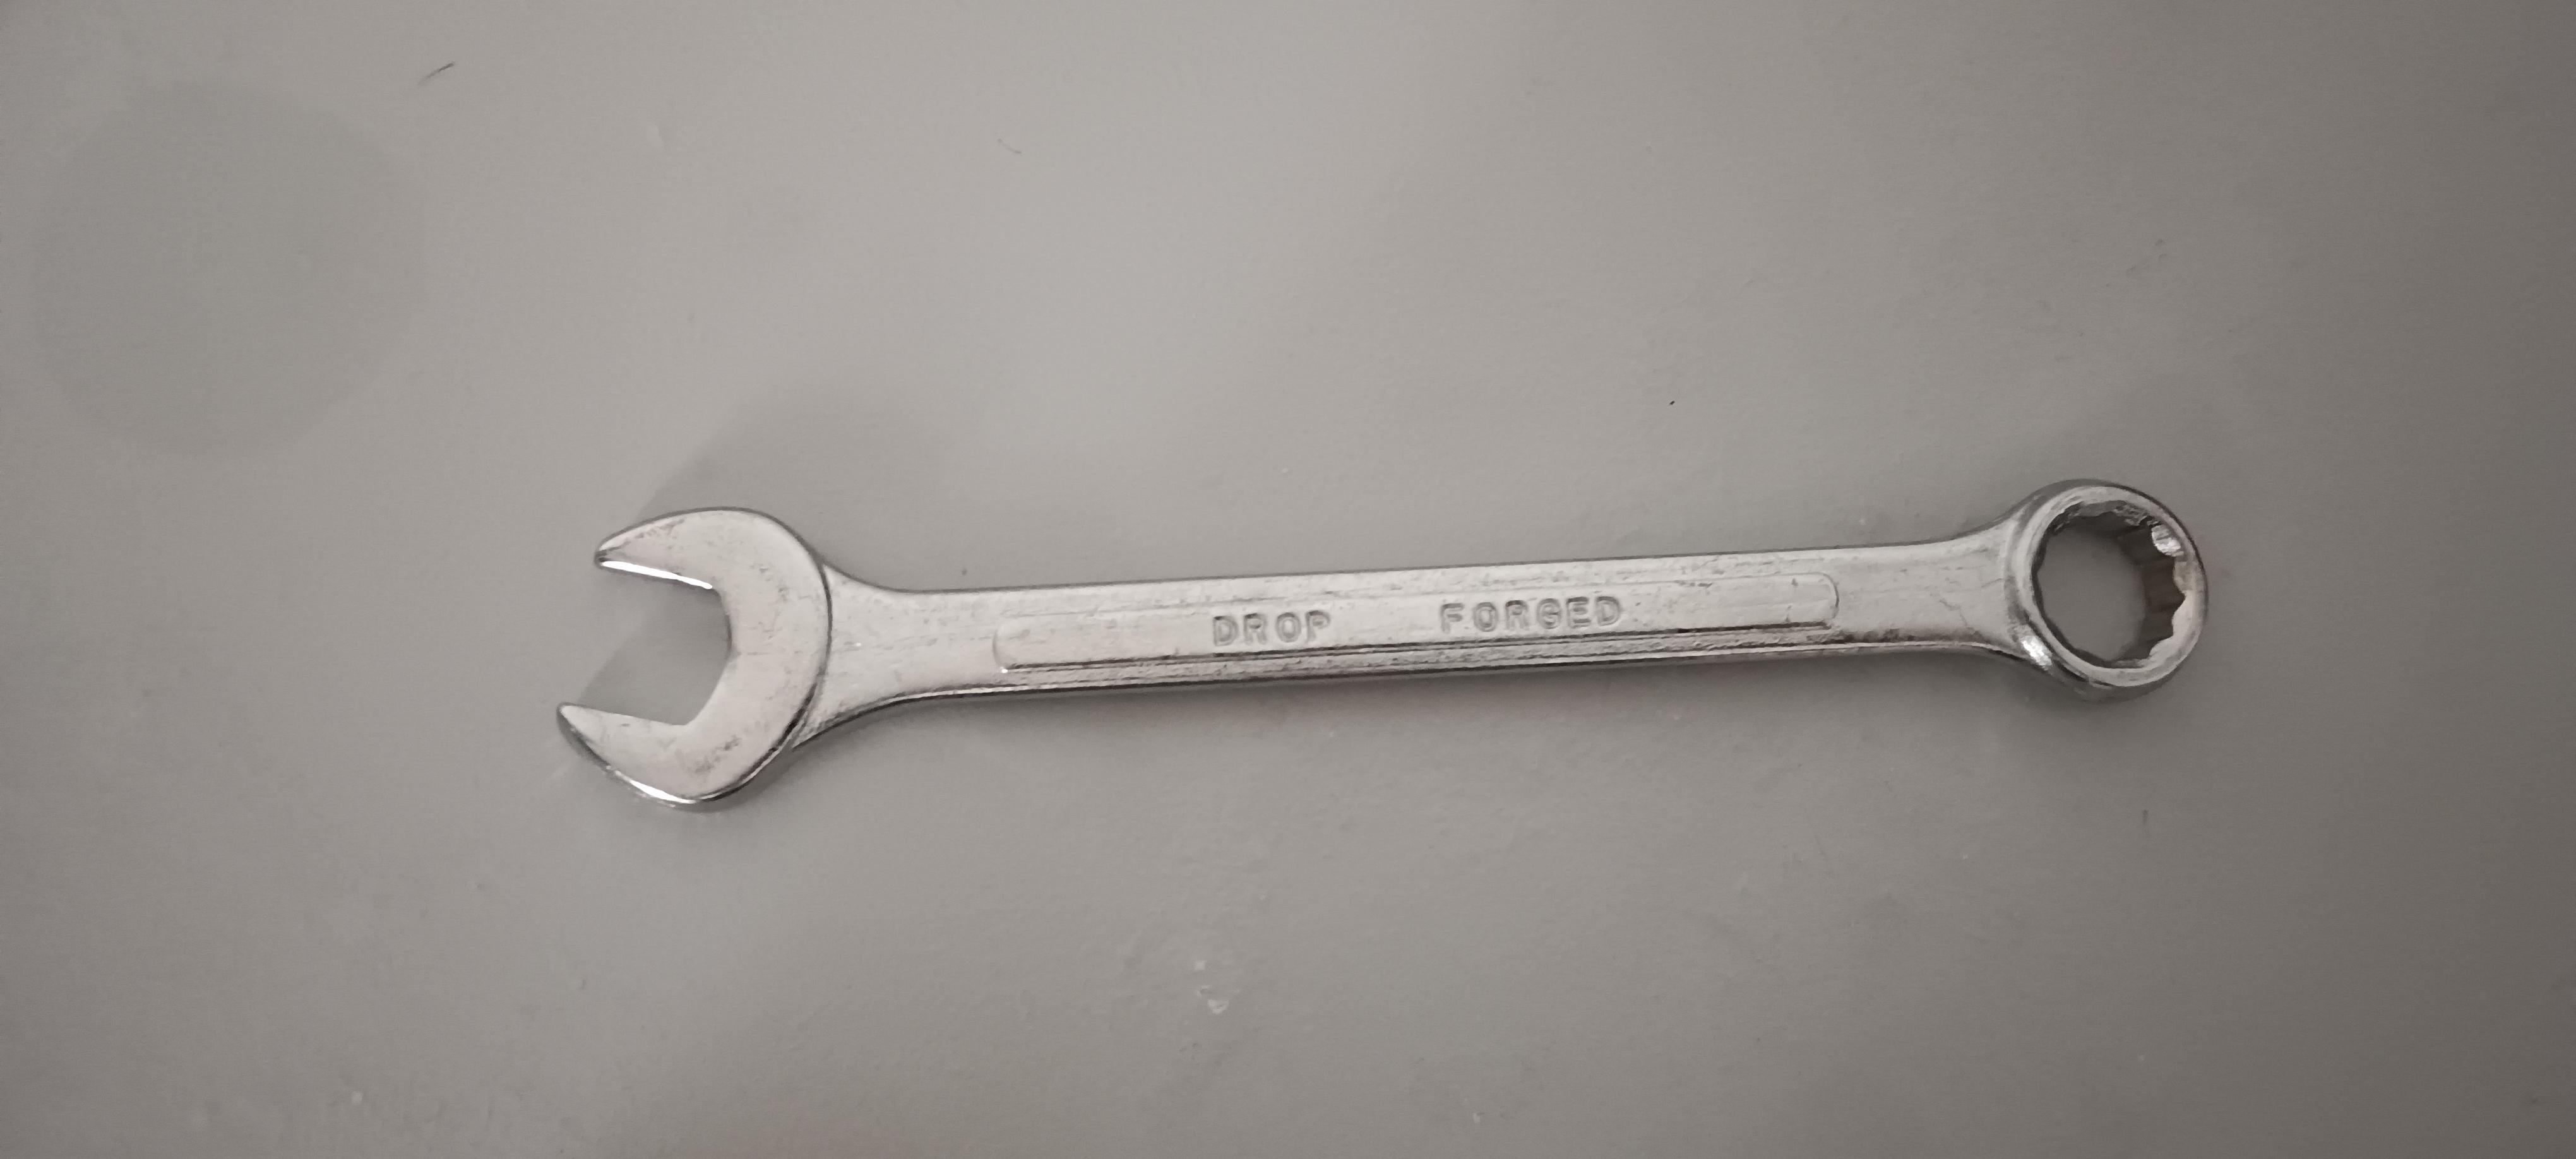Spanners: (526, 461, 2247, 839)
